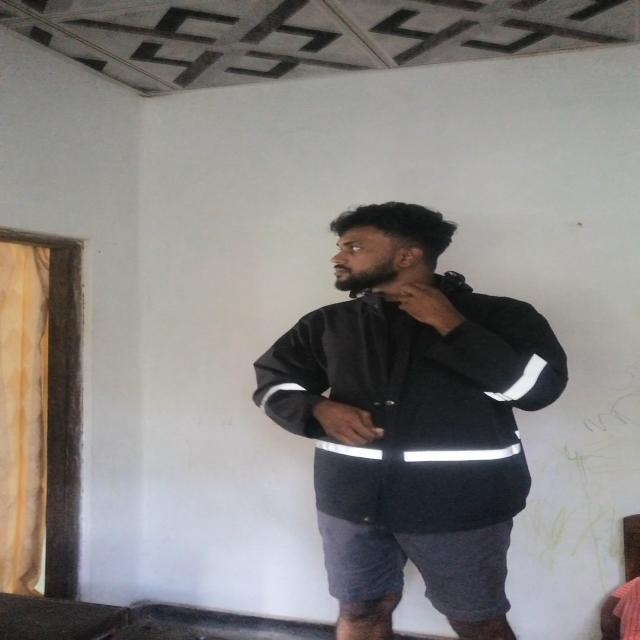Jacket_Wearer: (249, 276, 569, 516)
